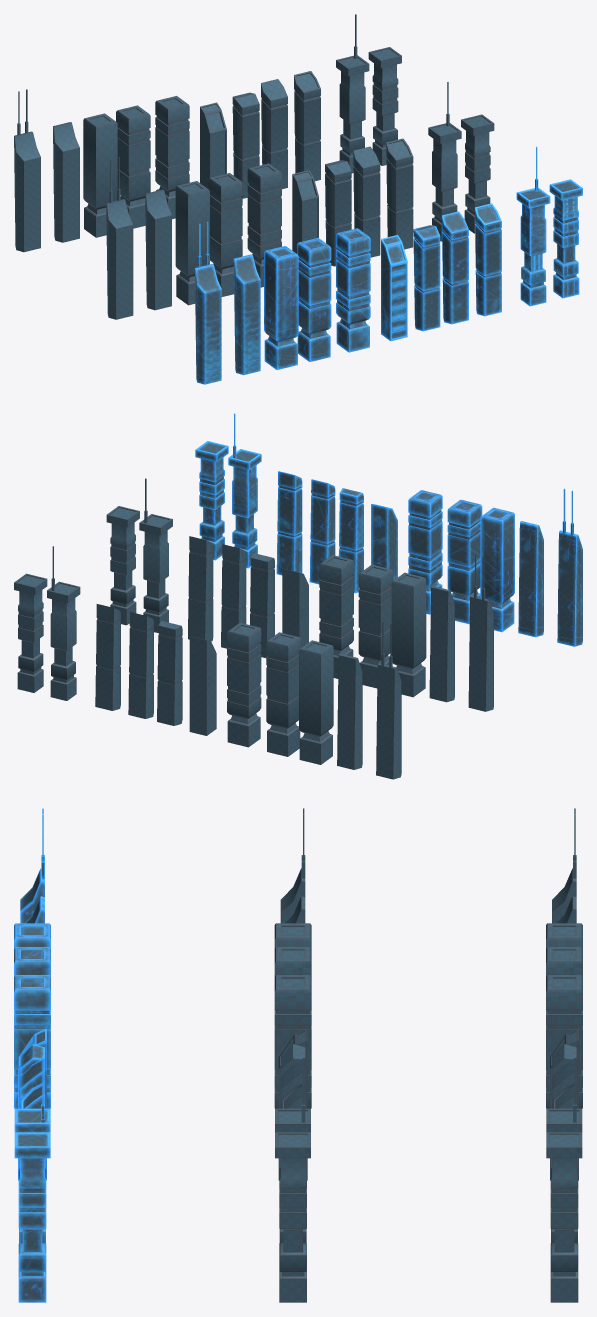
3 views of the same model, one above another, from view 1: azimuth 30°, elevation 25°; view 2: azimuth 150°, elevation 25°; view 3: azimuth 270°, elevation 25° (orthographic). The views are drawn at different scales.
Parts seen in each view (by area): view 1: SM_Rooftop_JFG_2, SM_Rooftop_JFG_4, SM_Rooftop_JFG_3, SM_Rooftop_JFG_2_NO_LIGHT_DAMAGED, SM_Rooftop_JFG_3_NO_LIGHT_DAMAGED, SM_Rooftop_JFG_2_NO_LIGHT, SM_Rooftop_JFG_3_NO_LIGHT, SM_Rooftop_JFG_1_NO_LIGHT, SM_Rooftop_JFG_4_NO_LIGHT_DAMAGED, SM_Rooftop_JFG_1, SM_Rooftop_JFG_1_NO_LIGHT_DAMAGED, SM_Rooftop_JFG_4_NO_LIGHT (+21 smaller); view 2: SM_Rooftop_JFG_2_NO_LIGHT_DAMAGED, SM_Rooftop_JFG_4_NO_LIGHT_DAMAGED, SM_Rooftop_JFG_2_NO_LIGHT, SM_Rooftop_JFG_3_NO_LIGHT_DAMAGED, SM_Rooftop_JFG_2, SM_Rooftop_JFG_3_NO_LIGHT, SM_Rooftop_JFG_3, SM_Rooftop_JFG_4_NO_LIGHT, SM_Rooftop_JFG_4, SM_Rooftop_JFG_1, SM_Rooftop_JFG_1_NO_LIGHT_DAMAGED, SM_Rooftop_JFG_9_NO_LIGHT_DAMAGED (+21 smaller); view 3: SM_Rooftop_JFG_10_NO_LIGHT_DAMAGED, SM_Rooftop_JFG_10, SM_Rooftop_JFG_10_NO_LIGHT, SM_Rooftop_JFG_4_NO_LIGHT, SM_Rooftop_JFG_4, SM_Rooftop_JFG_4_NO_LIGHT_DAMAGED, SM_Rooftop_JFG_9_NO_LIGHT, SM_Rooftop_JFG_9_NO_LIGHT_DAMAGED, SM_Rooftop_JFG_9, SM_Rooftop_JFG_3_NO_LIGHT, SM_Rooftop_JFG_3_NO_LIGHT_DAMAGED, SM_Rooftop_JFG_3 (+7 smaller).
Part boxes in pixels (bbox=[...]): SM_Rooftop_JFG_2: bbox=[264, 246, 298, 369]; SM_Rooftop_JFG_4: bbox=[336, 228, 370, 352]; SM_Rooftop_JFG_3: bbox=[297, 238, 331, 361]; SM_Rooftop_JFG_2_NO_LIGHT_DAMAGED: bbox=[83, 113, 117, 237]; SM_Rooftop_JFG_3_NO_LIGHT_DAMAGED: bbox=[116, 105, 150, 228]; SM_Rooftop_JFG_2_NO_LIGHT: bbox=[175, 181, 209, 305]; SM_Rooftop_JFG_3_NO_LIGHT: bbox=[208, 173, 242, 296]; SM_Rooftop_JFG_1_NO_LIGHT: bbox=[106, 157, 133, 319]; SM_Rooftop_JFG_4_NO_LIGHT_DAMAGED: bbox=[155, 96, 189, 219]; SM_Rooftop_JFG_1: bbox=[195, 222, 221, 384]; SM_Rooftop_JFG_1_NO_LIGHT_DAMAGED: bbox=[14, 89, 40, 252]; SM_Rooftop_JFG_4_NO_LIGHT: bbox=[247, 163, 281, 287]; SM_Rooftop_JFG_2_NO_LIGHT_DAMAGED: bbox=[299, 640, 333, 764]; SM_Rooftop_JFG_4_NO_LIGHT_DAMAGED: bbox=[227, 622, 261, 747]; SM_Rooftop_JFG_2_NO_LIGHT: bbox=[391, 572, 426, 697]; SM_Rooftop_JFG_3_NO_LIGHT_DAMAGED: bbox=[266, 632, 300, 756]; SM_Rooftop_JFG_2: bbox=[480, 507, 514, 632]; SM_Rooftop_JFG_3_NO_LIGHT: bbox=[358, 564, 393, 688]; SM_Rooftop_JFG_3: bbox=[447, 499, 482, 624]; SM_Rooftop_JFG_4_NO_LIGHT: bbox=[319, 555, 353, 678]; SM_Rooftop_JFG_4: bbox=[408, 490, 442, 614]; SM_Rooftop_JFG_1: bbox=[557, 488, 582, 646]; SM_Rooftop_JFG_1_NO_LIGHT_DAMAGED: bbox=[376, 621, 401, 779]; SM_Rooftop_JFG_9_NO_LIGHT_DAMAGED: bbox=[47, 546, 80, 700]; SM_Rooftop_JFG_10_NO_LIGHT_DAMAGED: bbox=[546, 1132, 582, 1302]; SM_Rooftop_JFG_10: bbox=[14, 1132, 50, 1302]; SM_Rooftop_JFG_10_NO_LIGHT: bbox=[275, 1132, 310, 1302]; SM_Rooftop_JFG_4_NO_LIGHT: bbox=[274, 975, 311, 1108]; SM_Rooftop_JFG_4: bbox=[14, 975, 50, 1108]; SM_Rooftop_JFG_4_NO_LIGHT_DAMAGED: bbox=[546, 975, 582, 1108]; SM_Rooftop_JFG_9_NO_LIGHT: bbox=[275, 1057, 310, 1266]; SM_Rooftop_JFG_9_NO_LIGHT_DAMAGED: bbox=[546, 1057, 582, 1266]; SM_Rooftop_JFG_9: bbox=[14, 1057, 50, 1266]; SM_Rooftop_JFG_3_NO_LIGHT: bbox=[274, 947, 311, 976]; SM_Rooftop_JFG_3_NO_LIGHT_DAMAGED: bbox=[546, 947, 582, 976]; SM_Rooftop_JFG_3: bbox=[14, 947, 50, 976].
Size of the model in its own units: 18536 by 7262 by 16358.
3 materials, 3 textured.
